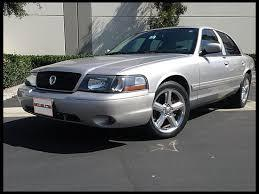Mercury: (44, 71, 61, 89)
